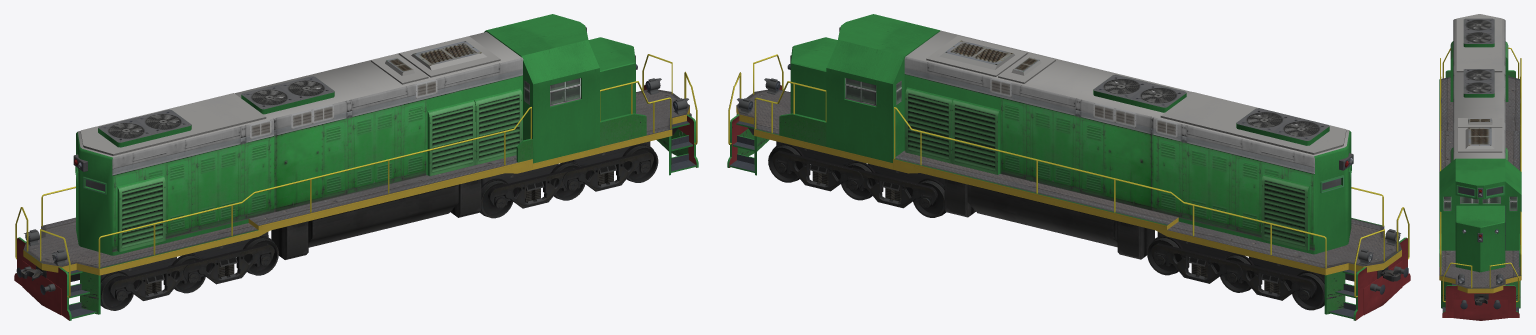
The model's file is TrainA_Locomotive06.FBX.
3 renders of one model, left to right at view 1: azimuth 30°, elevation 25°; view 2: azimuth 150°, elevation 25°; view 3: azimuth 270°, elevation 25°, orthographic. The views are drawn at different scales.
Parts seen in each view (by area): view 1: TrainA_Locomotive06, TrainA06_LocoWheelDetail, TrainA06_LocoWheels01, TrainA06_LocoWheels04, TrainA06_LocoWheels06, TrainA06_LocoWheels03, TrainA06_LocoWheels02, TrainA06_LocoWheels05; view 2: TrainA_Locomotive06, TrainA06_LocoWheelDetail, TrainA06_LocoWheels01, TrainA06_LocoWheels04, TrainA06_LocoWheels03, TrainA06_LocoWheels06, TrainA06_LocoWheels05, TrainA06_LocoWheels02; view 3: TrainA_Locomotive06, TrainA06_LocoWheelDetail.
Boxes of the visible parts, x1,y1,x2,y2 form: TrainA_Locomotive06: (14, 14, 698, 320); TrainA06_LocoWheelDetail: (21, 113, 691, 300); TrainA06_LocoWheels01: (100, 271, 134, 310); TrainA06_LocoWheels04: (480, 178, 513, 218); TrainA06_LocoWheels06: (622, 143, 658, 182); TrainA06_LocoWheels03: (243, 236, 278, 275); TrainA06_LocoWheels02: (171, 253, 205, 293); TrainA06_LocoWheels05: (551, 161, 585, 200); TrainA_Locomotive06: (727, 14, 1410, 320); TrainA06_LocoWheelDetail: (736, 114, 1401, 300); TrainA06_LocoWheels01: (1291, 271, 1324, 310); TrainA06_LocoWheels04: (912, 178, 946, 217); TrainA06_LocoWheels03: (1147, 235, 1182, 275); TrainA06_LocoWheels06: (768, 143, 803, 182); TrainA06_LocoWheels05: (841, 161, 875, 200); TrainA06_LocoWheels02: (1220, 253, 1254, 292); TrainA_Locomotive06: (1439, 14, 1521, 320); TrainA06_LocoWheelDetail: (1474, 294, 1488, 305).
Size of the model in its own units: 1098 by 248 by 168.
